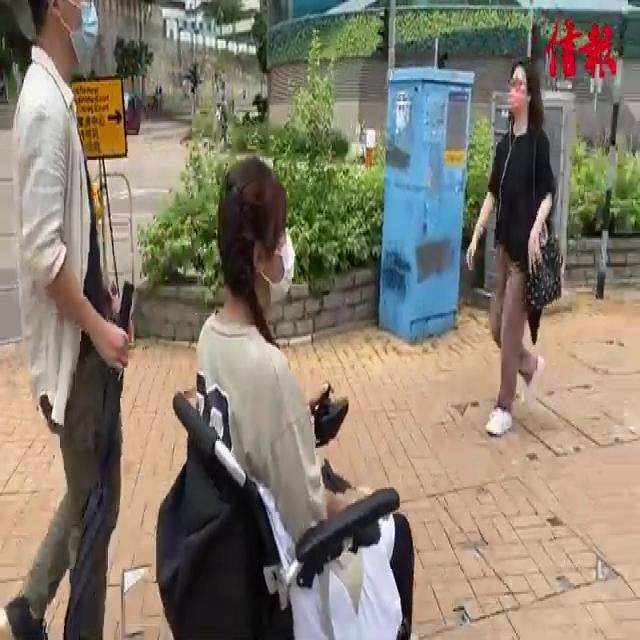wheelchairs: (134, 325, 426, 640)
